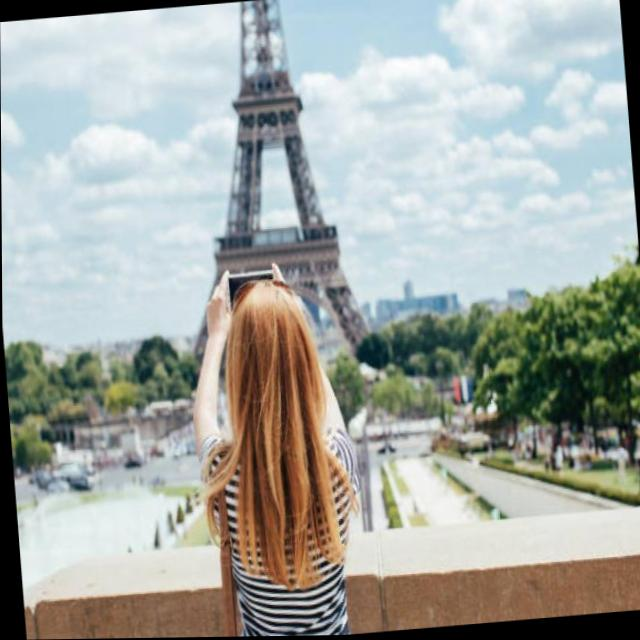no helmet: (189, 245, 363, 514)
